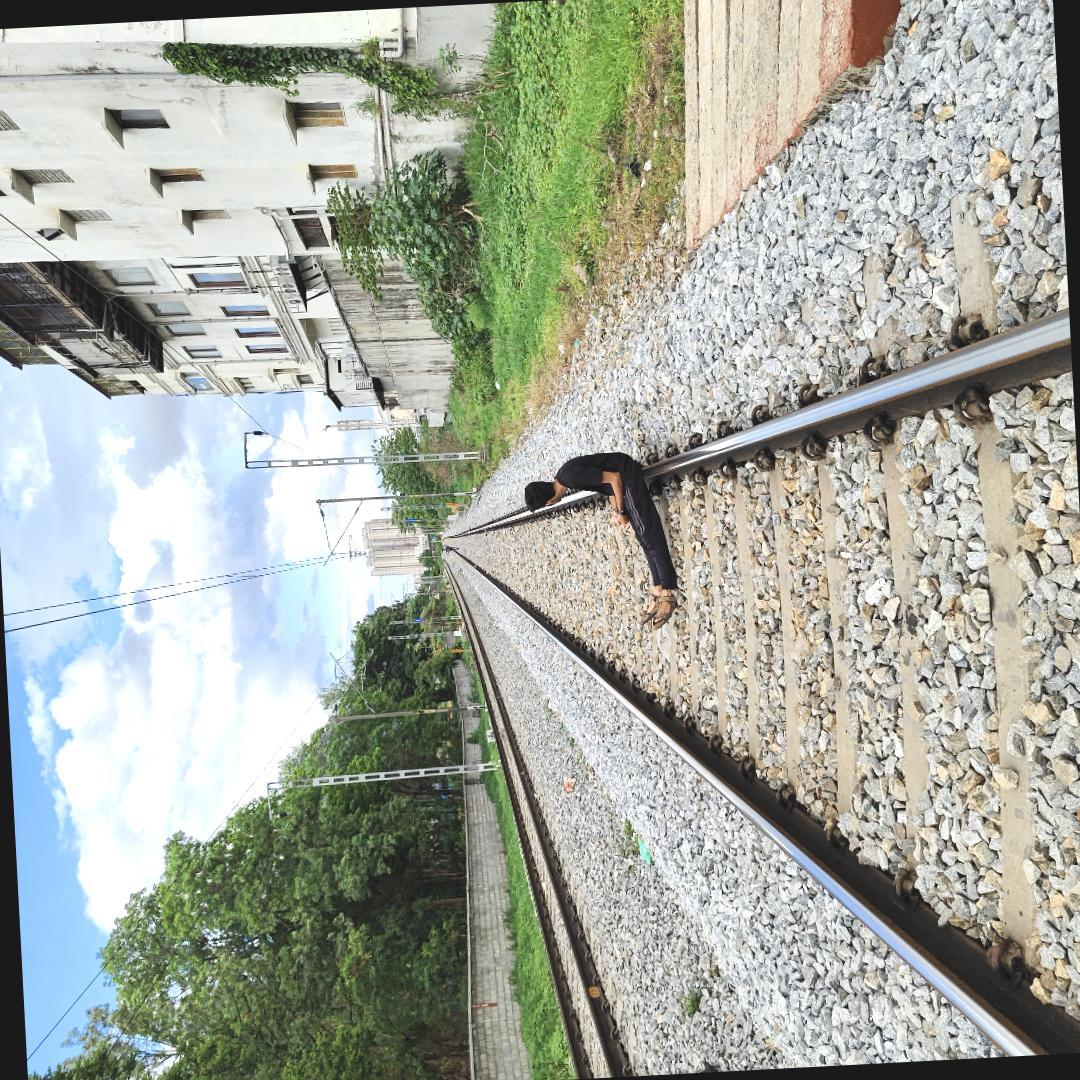sitting: (514, 442, 684, 635)
